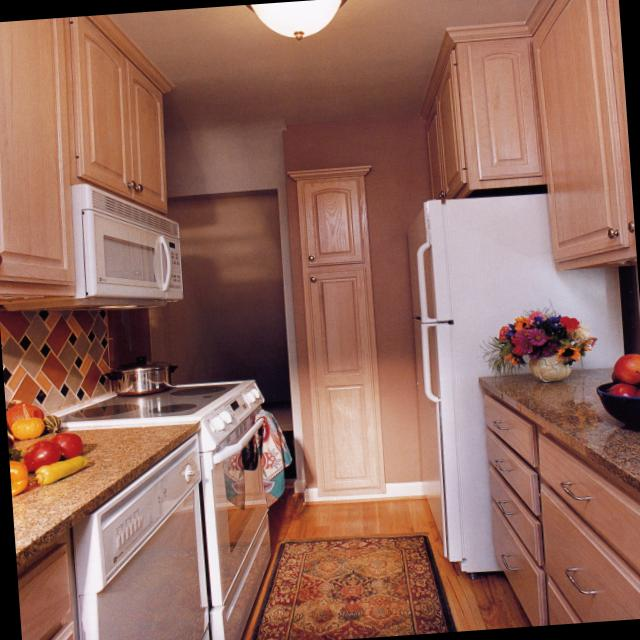CeilingLamp: (251, 0, 347, 38)
Drawer: (536, 433, 640, 573)
Pot: (111, 360, 178, 394)
counter: (487, 366, 640, 481)
cupboard crop: (533, 0, 633, 263)
dish with lobsters: (73, 433, 210, 640)
flowerpot: (502, 315, 590, 385)
microwave oven: (73, 188, 183, 301)
oven cloth: (200, 382, 270, 640)
pumpkin: (11, 404, 44, 438)
refridgerator: (406, 196, 621, 569)
rug -partially obscured-: (253, 538, 453, 640)
stove burner: (59, 379, 240, 419)
tomato: (24, 441, 57, 471)
